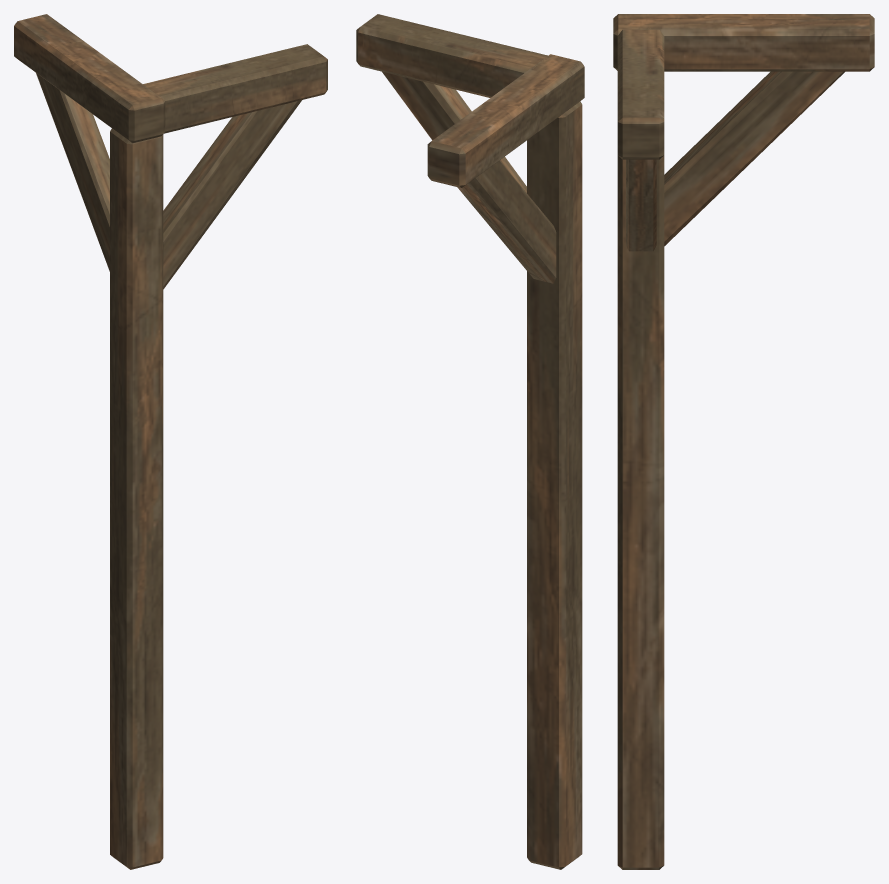
File: SM_bark_03.fbx
3 views of the same model, side by side, from view 1: azimuth 30°, elevation 25°; view 2: azimuth 150°, elevation 25°; view 3: azimuth 270°, elevation 25° (orthographic). The views are drawn at different scales.
Parts seen in each view (by area): view 1: SM_bark_03_LOD0; view 2: SM_bark_03_LOD0; view 3: SM_bark_03_LOD0.
Part boxes in pixels (x1,y1,x2,y2): SM_bark_03_LOD0: (14,14,327,869); SM_bark_03_LOD0: (356,14,584,869); SM_bark_03_LOD0: (613,14,874,869).
Bounding box in the file's own units: 110 × 113 × 400.
1 material, 1 textured.
